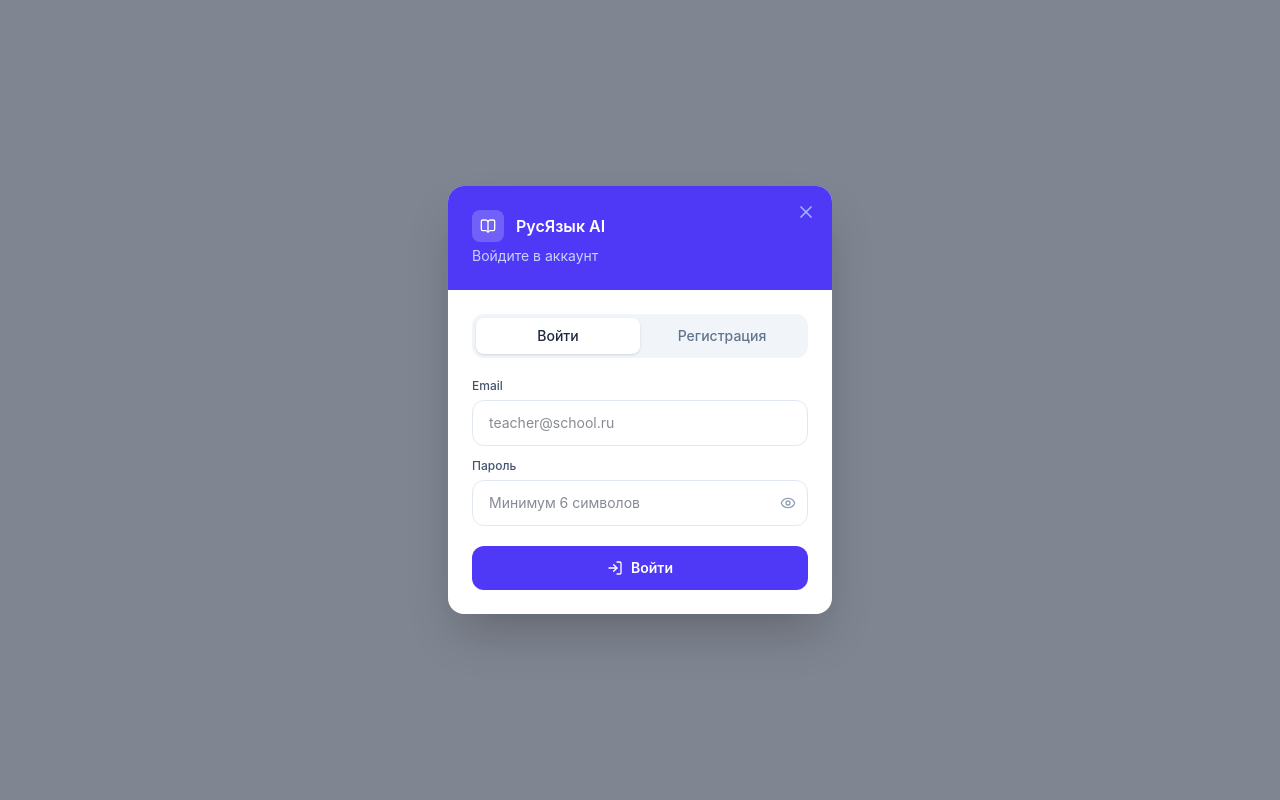
AuthModal — валидация › показывает ошибку при коротком пароле
The image size is (1280, 800).
Type "test@test.com" into the field with placeholder "teacher@school.ru" at point(640, 423), box [472,400,808,446]
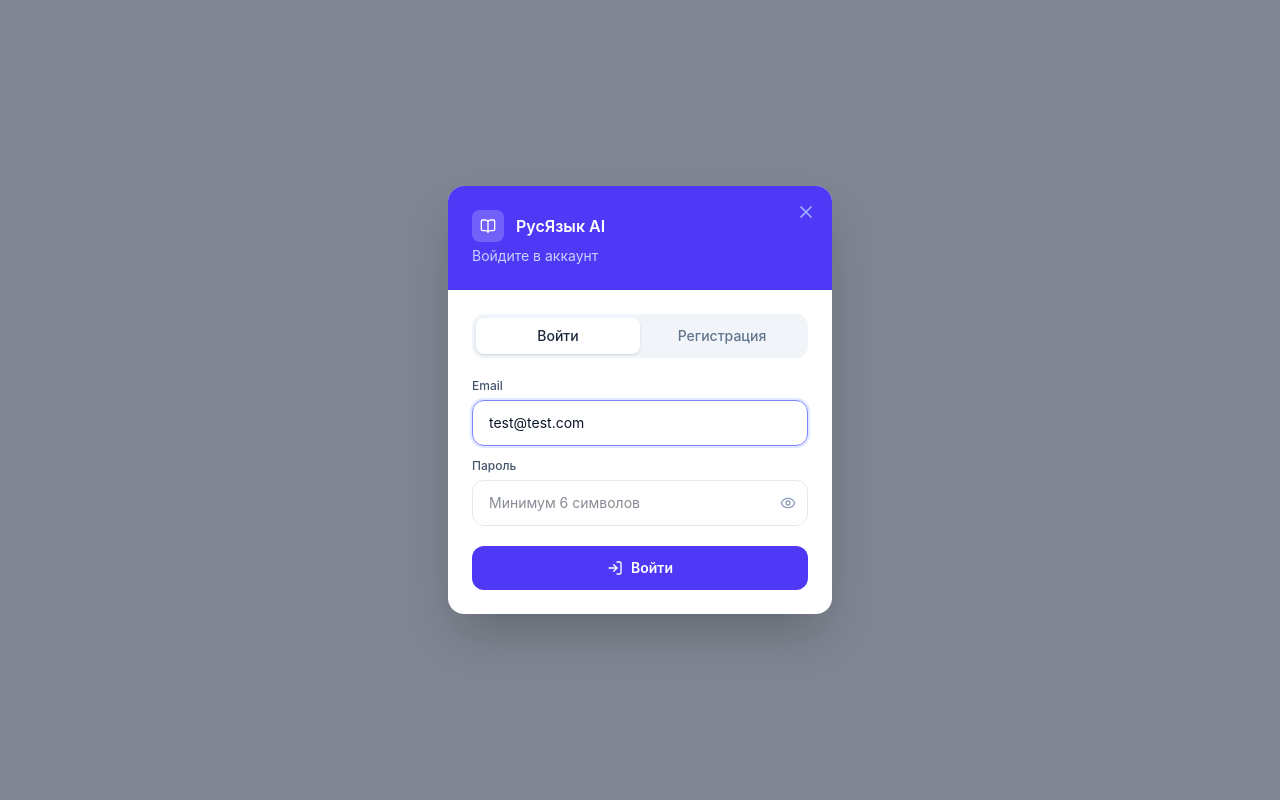
Type "123" into the password field with placeholder "Минимум 6 символов" at point(640, 503), box [472,480,808,526]
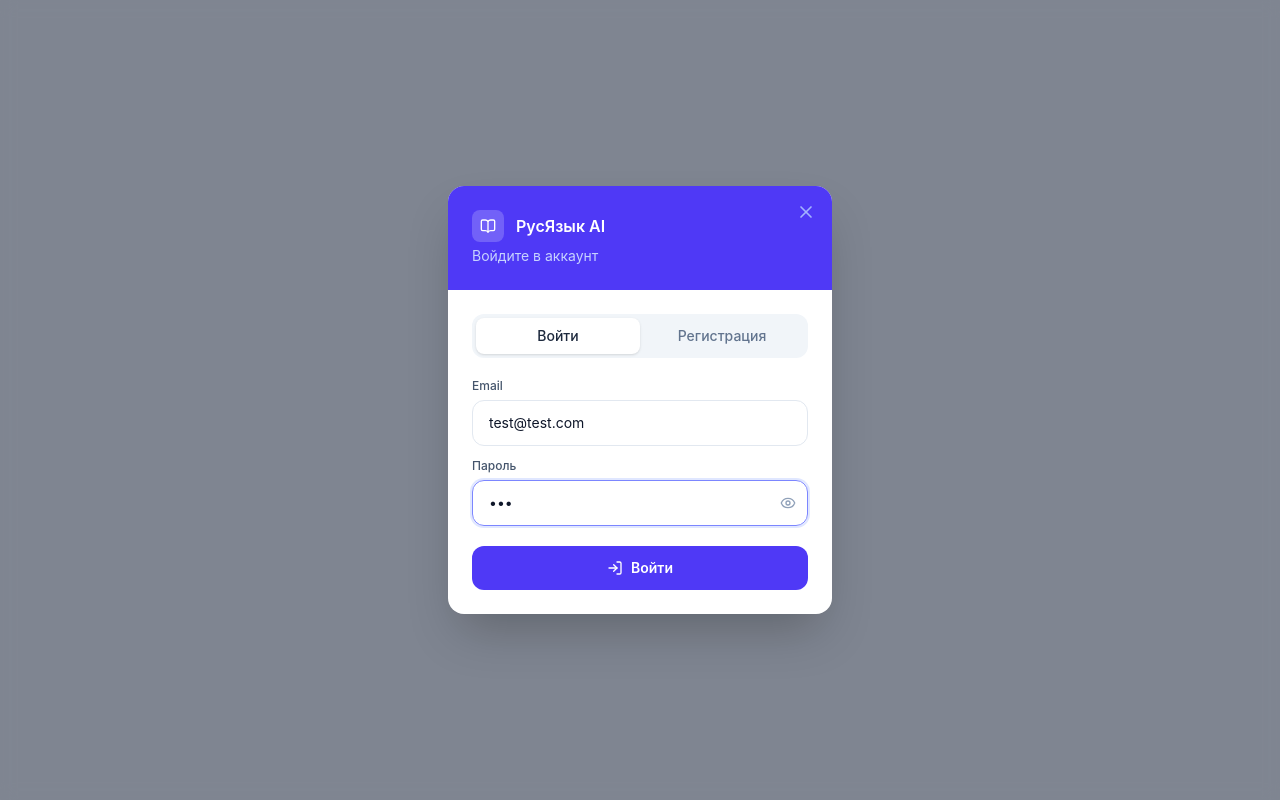
Click the 2nd button "Войти" at point(640, 568), box [472,546,808,590]
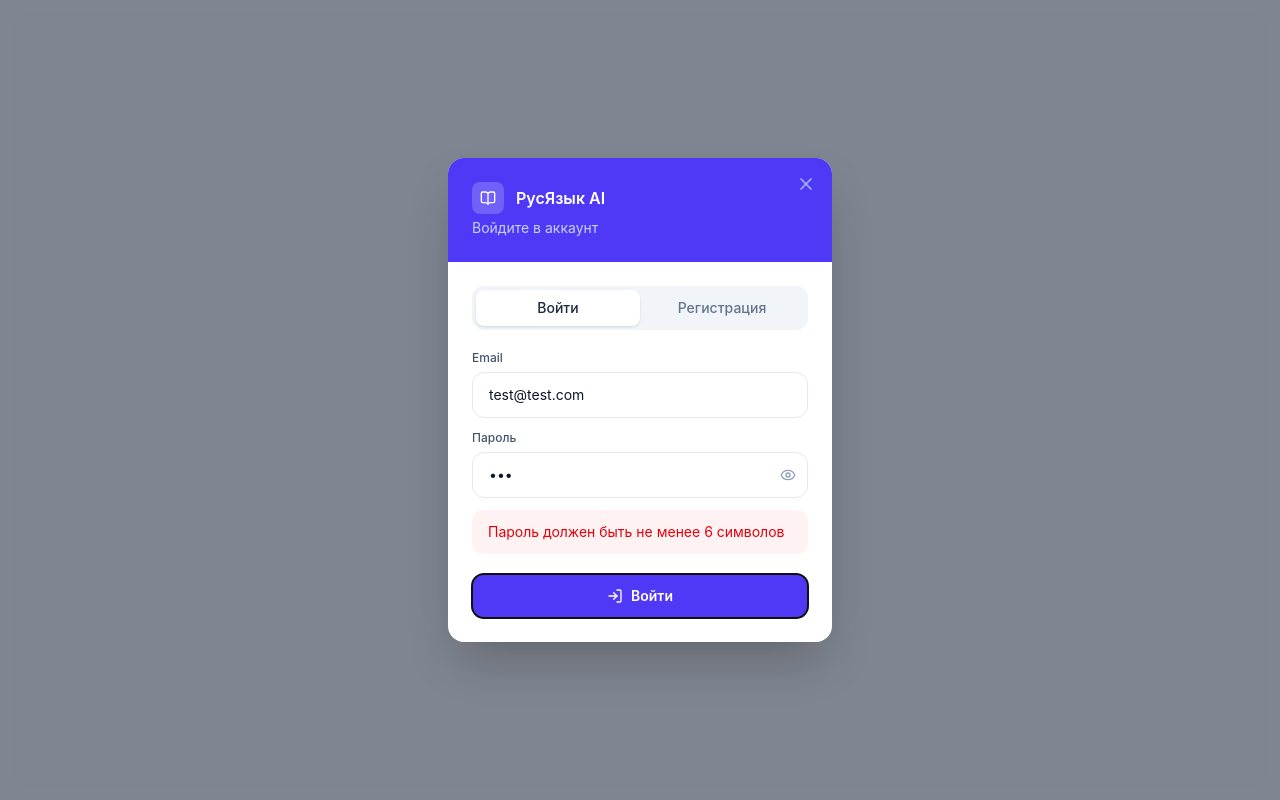
Expected: the text "Пароль должен быть не менее 6 символов" is shown, [472,510,808,554]
